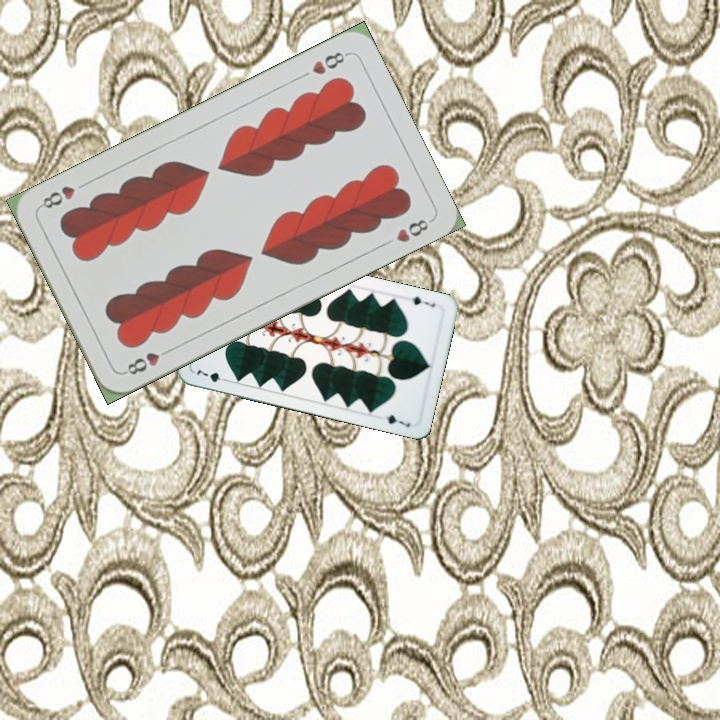G7: (193, 366, 232, 385), (408, 292, 438, 309)
H8: (119, 344, 175, 378), (308, 47, 351, 78)
